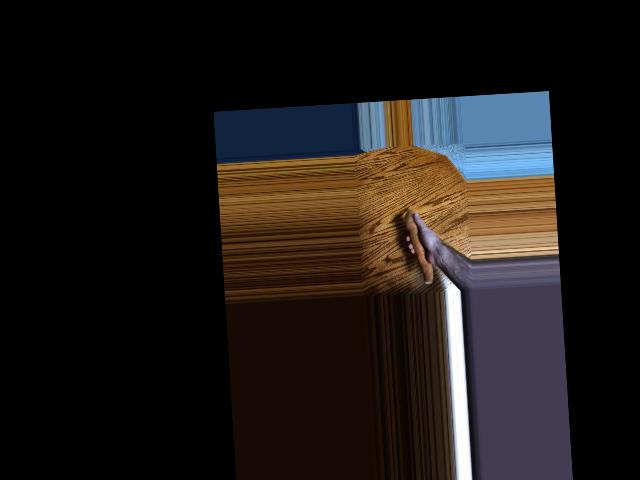sweet_potato: (404, 209, 435, 286)
